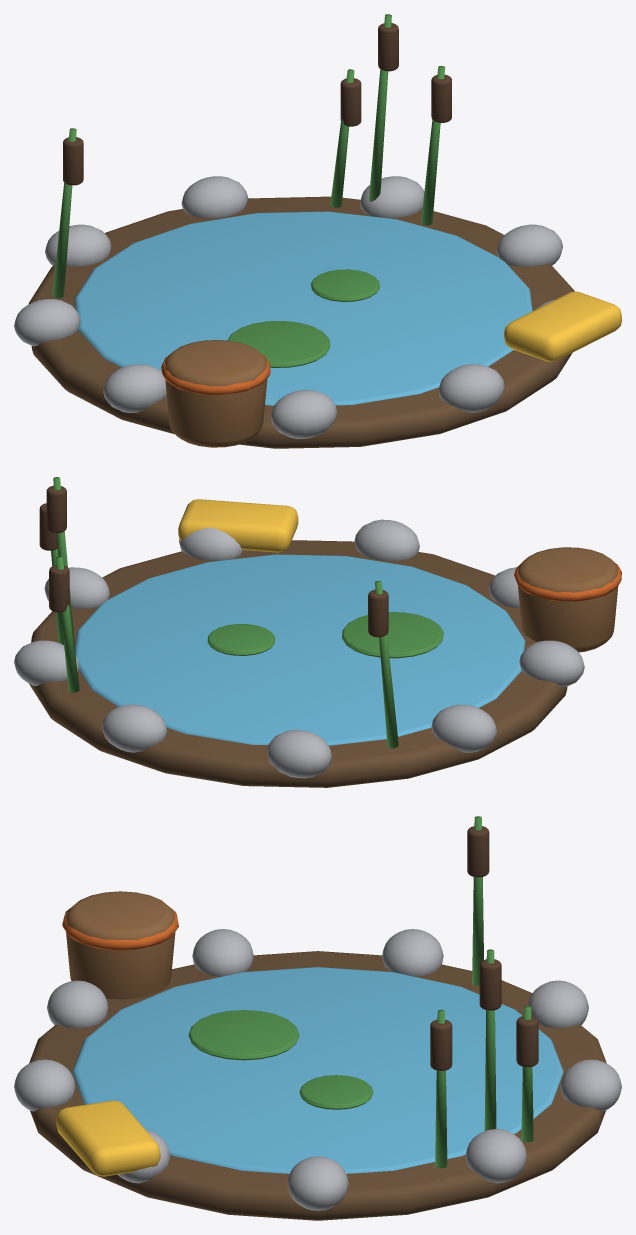
The model's file is Wallow.fbx.
3 renders of one model, top to bottom at view 1: azimuth 30°, elevation 25°; view 2: azimuth 150°, elevation 25°; view 3: azimuth 270°, elevation 25°, orthographic. The views are drawn at different scales.
Visible parts, largest first — view 1: Wallow; view 2: Wallow; view 3: Wallow.
Boxes of the visible parts, box(x1,y1,x2,y2) form: Wallow: box(14, 14, 621, 448); Wallow: box(14, 477, 621, 787); Wallow: box(14, 816, 621, 1220).
Bounding box in the file's own units: 0.9929 × 0.4205 × 0.9863.
